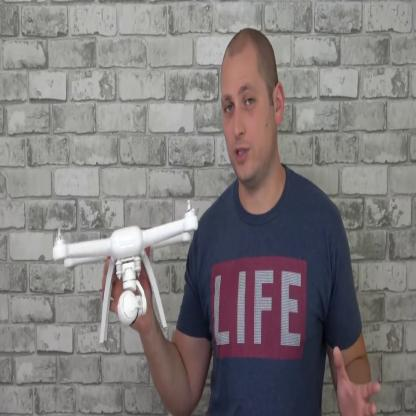drone: (49, 206, 204, 280)
